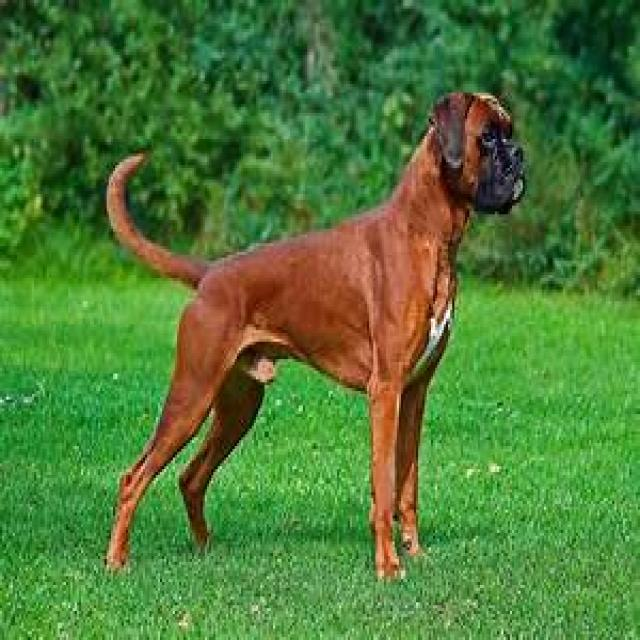dog: (105, 93, 527, 582)
